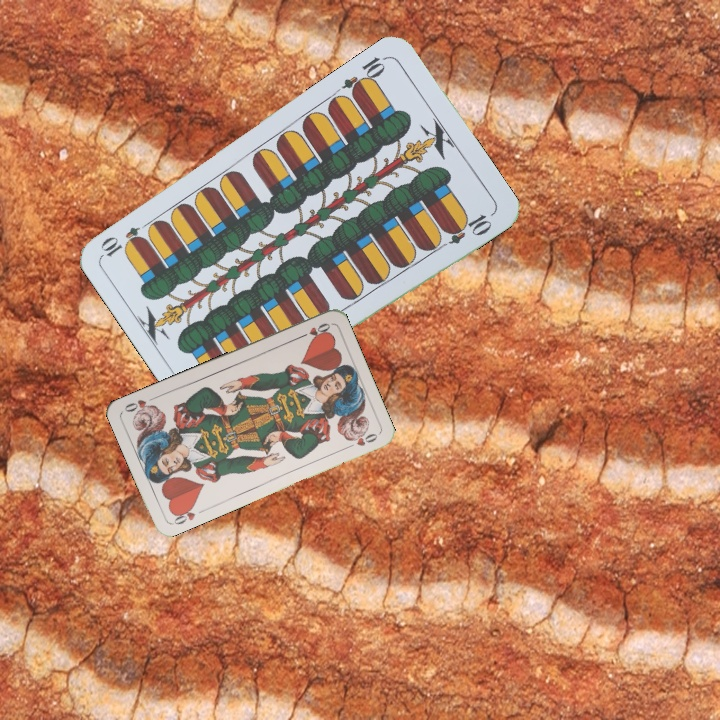E10: (338, 52, 390, 99)
HO: (294, 319, 333, 341), (168, 501, 198, 527)
